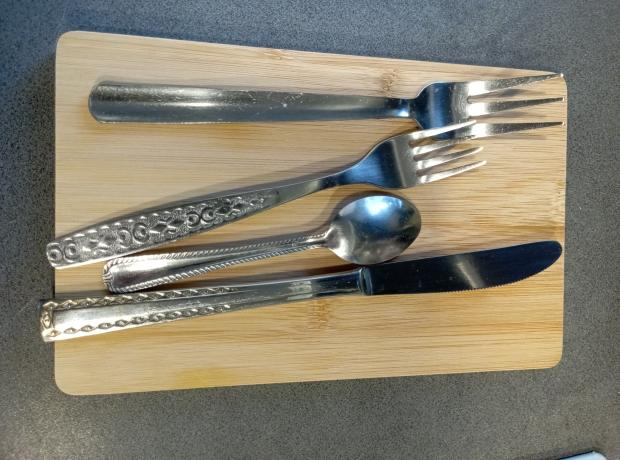metal: (46, 119, 488, 271), (39, 240, 565, 344), (87, 70, 569, 142), (103, 192, 424, 295)
